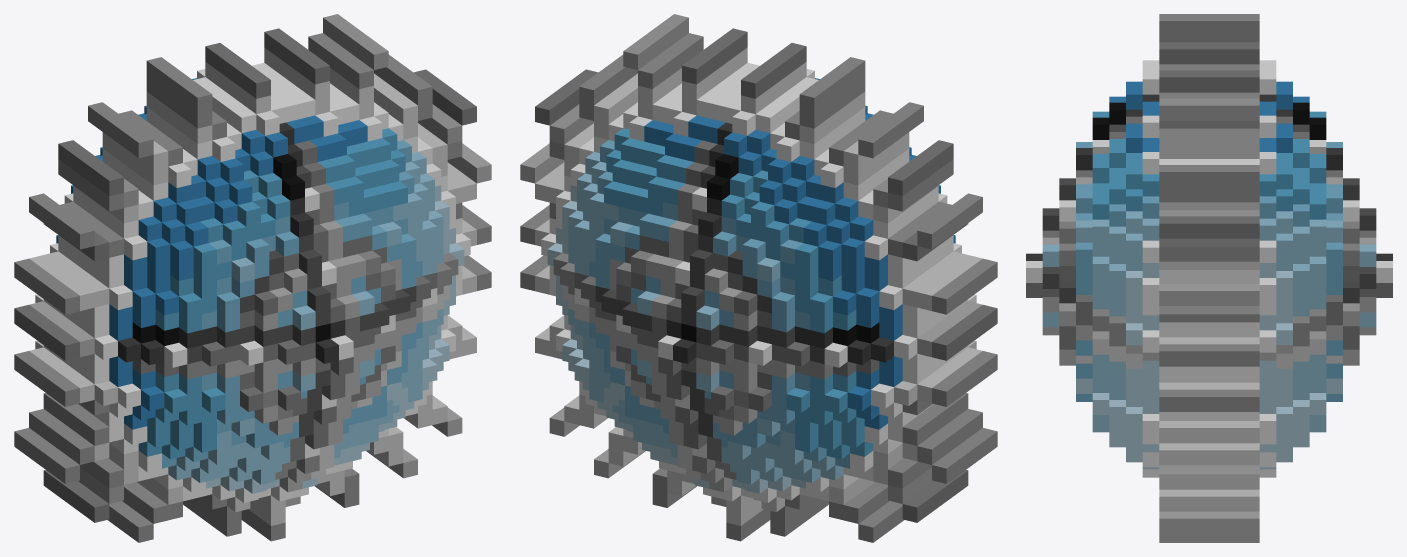
File: frostshield.glb
The picture shows the model from 3 angles, left to right: view 1: azimuth 30°, elevation 25°; view 2: azimuth 150°, elevation 25°; view 3: azimuth 270°, elevation 25°; orthographic projection.
Bounding box in the file's own units: 0.9062 × 0.9375 × 0.6875.
